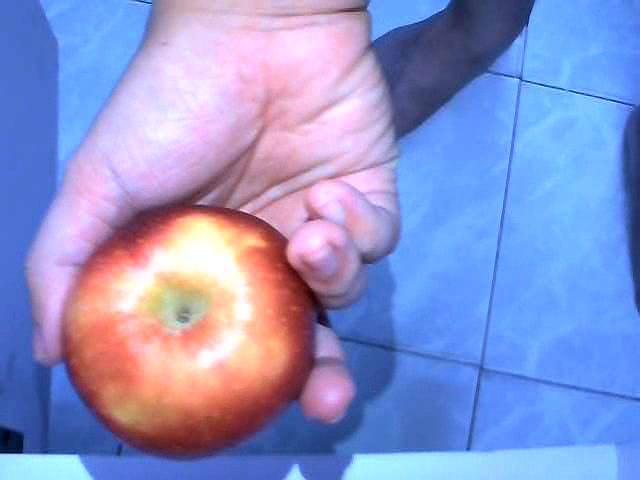apple: (58, 202, 319, 455)
